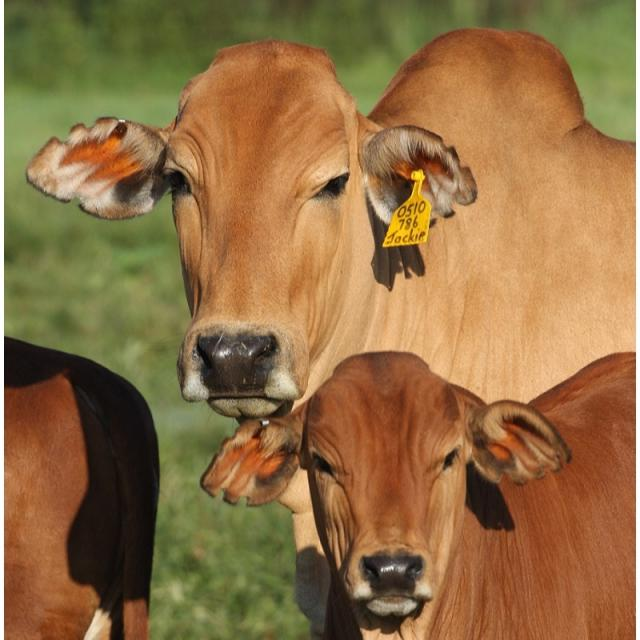cowFace: (26, 42, 460, 414), (205, 350, 566, 551)
